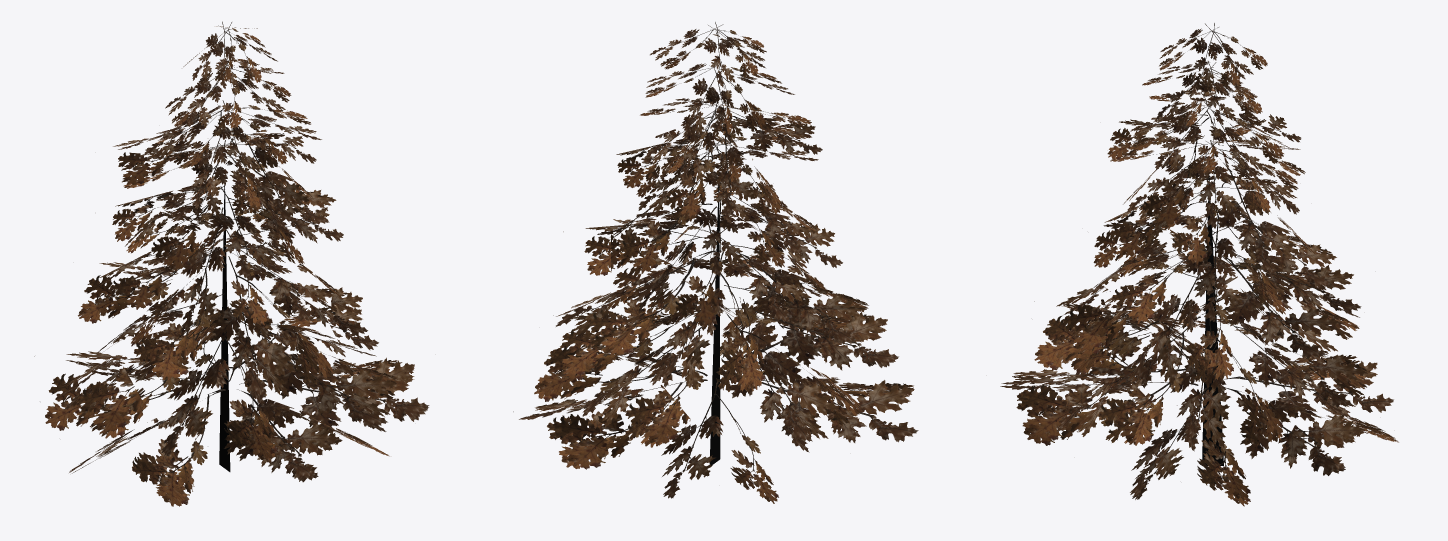
File: spruce1 lod3.FBX
3 views of the same model, side by side, from view 1: azimuth 30°, elevation 25°; view 2: azimuth 150°, elevation 25°; view 3: azimuth 270°, elevation 25° (orthographic).
Visible parts, largest first — view 1: spruce1_LOD3; view 2: spruce1_LOD3; view 3: spruce1_LOD3.
Part boxes in pixels (bbox=[...]): spruce1_LOD3: bbox=[34, 21, 429, 506]; spruce1_LOD3: bbox=[513, 22, 918, 503]; spruce1_LOD3: bbox=[1000, 23, 1398, 506].
Size of the model in its own units: 42229 by 44241 by 42009.
